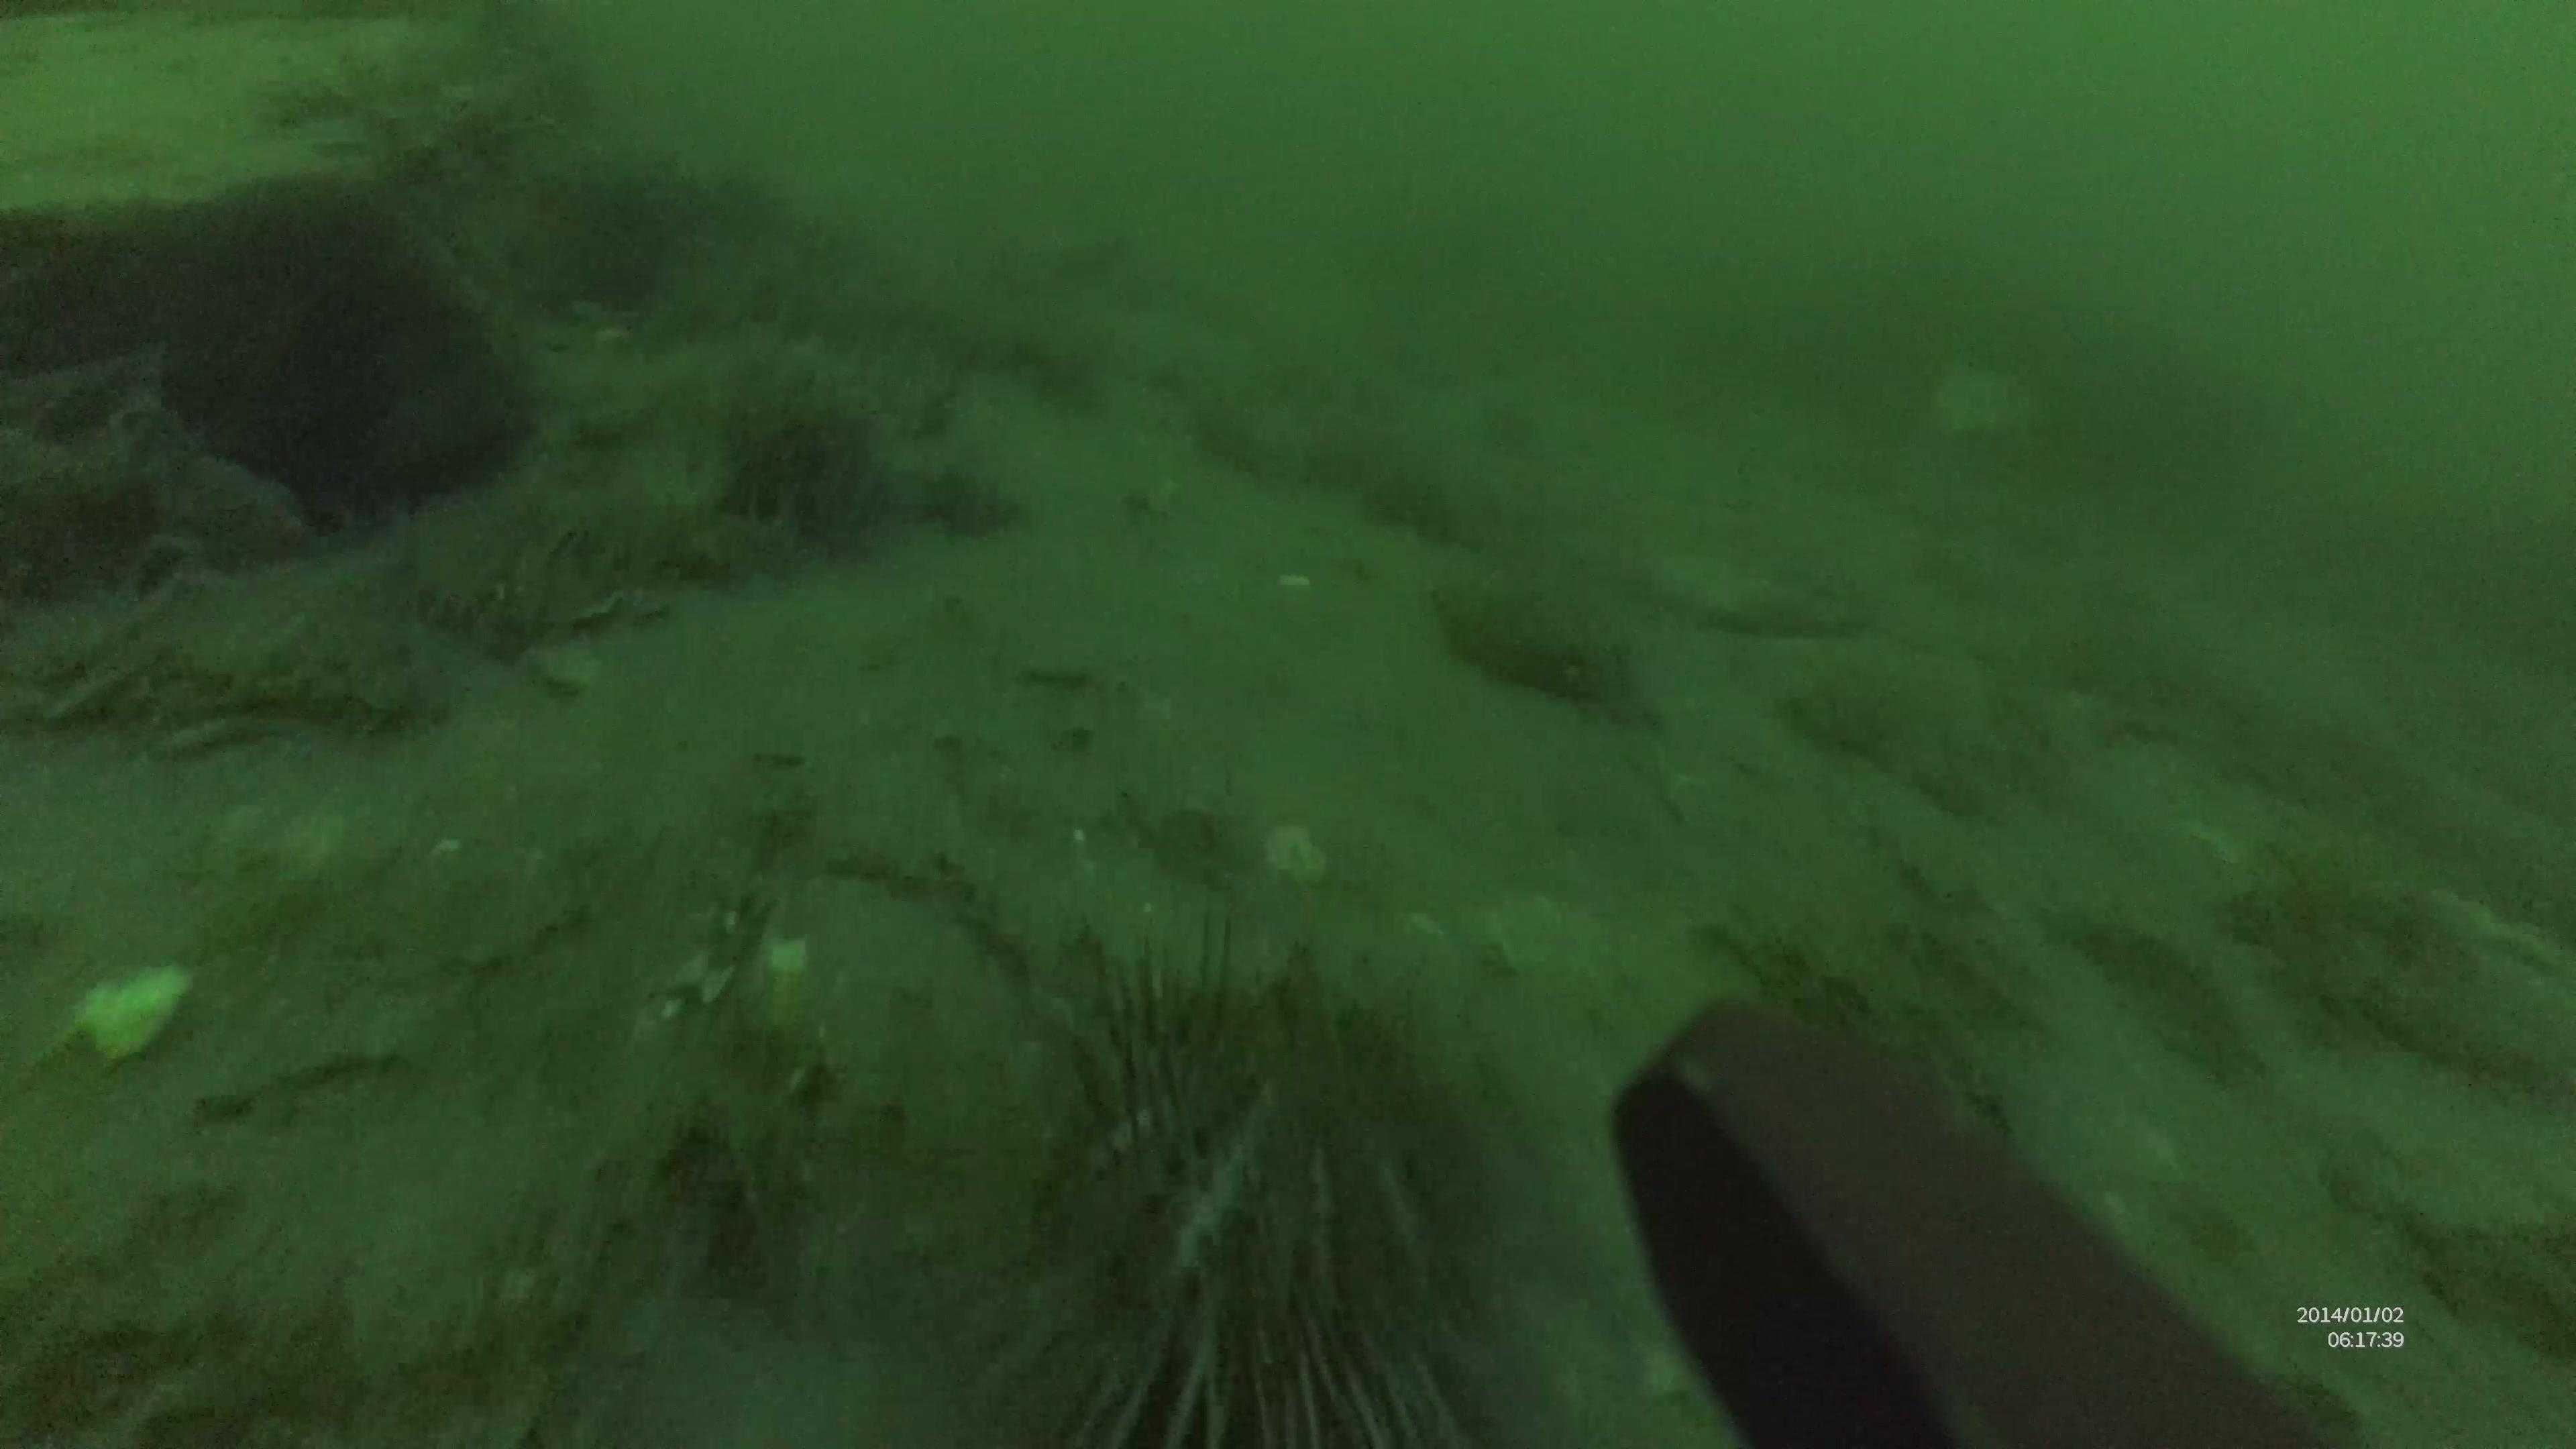echinus: (973, 925, 1509, 1447)
